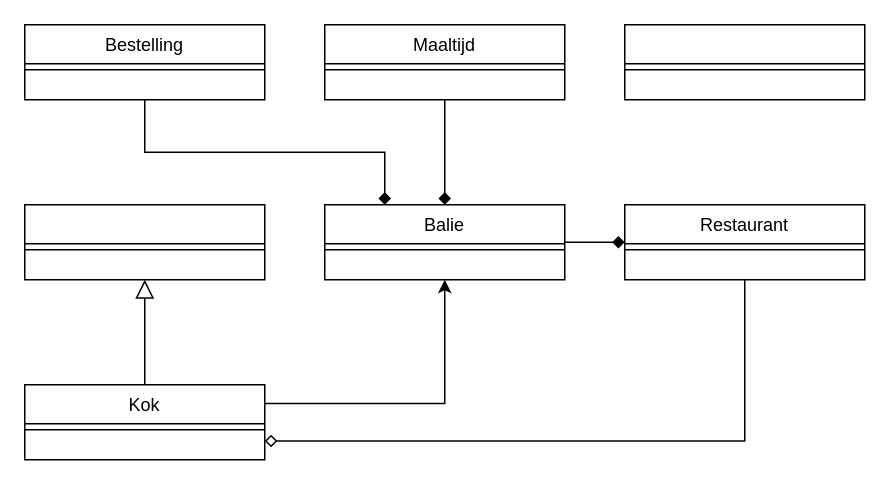
Some shapes in this 890 by 485 pixel diagram are drawn without their labels. The centre of each missing label's shape, as x and y in pixels:
"Medewerker" belongs at (x=144, y=241).
"Program" belongs at (x=744, y=61).
